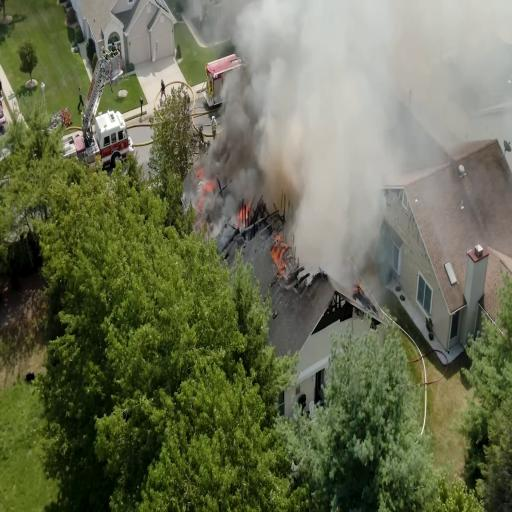smoke: (300, 86, 388, 258), (213, 58, 276, 194)
